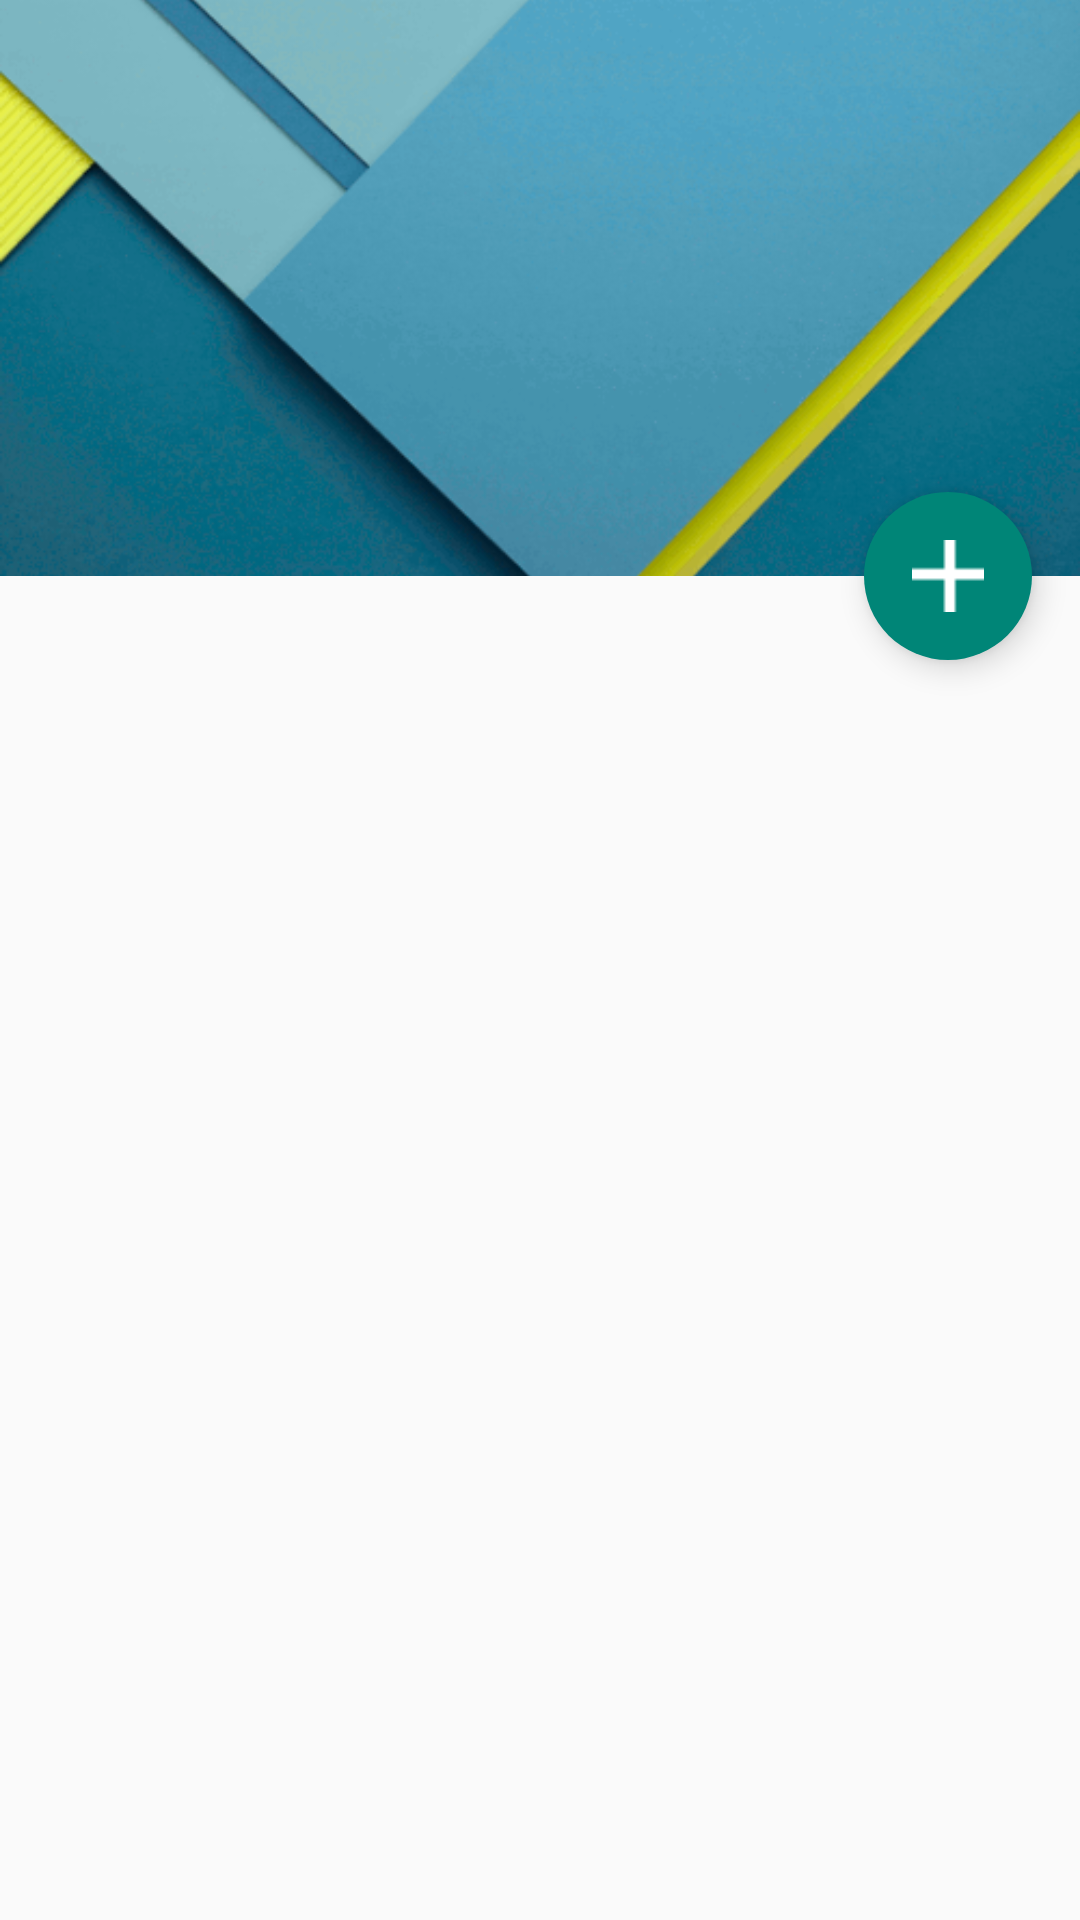

Named icons in this screenshot (1080*1920) and their centers, (x=x, y=y):
plus: (x=948, y=576)
